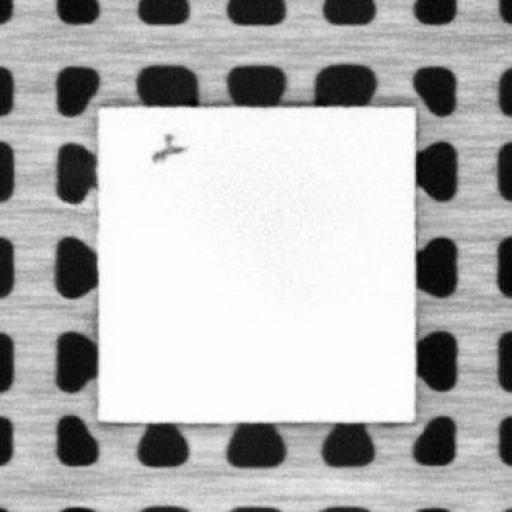DIE_INK: (148, 132, 186, 165)
